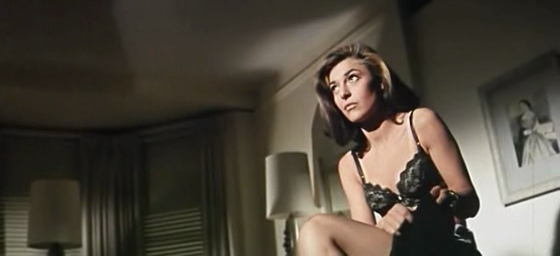face: (327, 66, 370, 121)
ms: (1, 1, 560, 256)
person: (294, 42, 482, 256)
